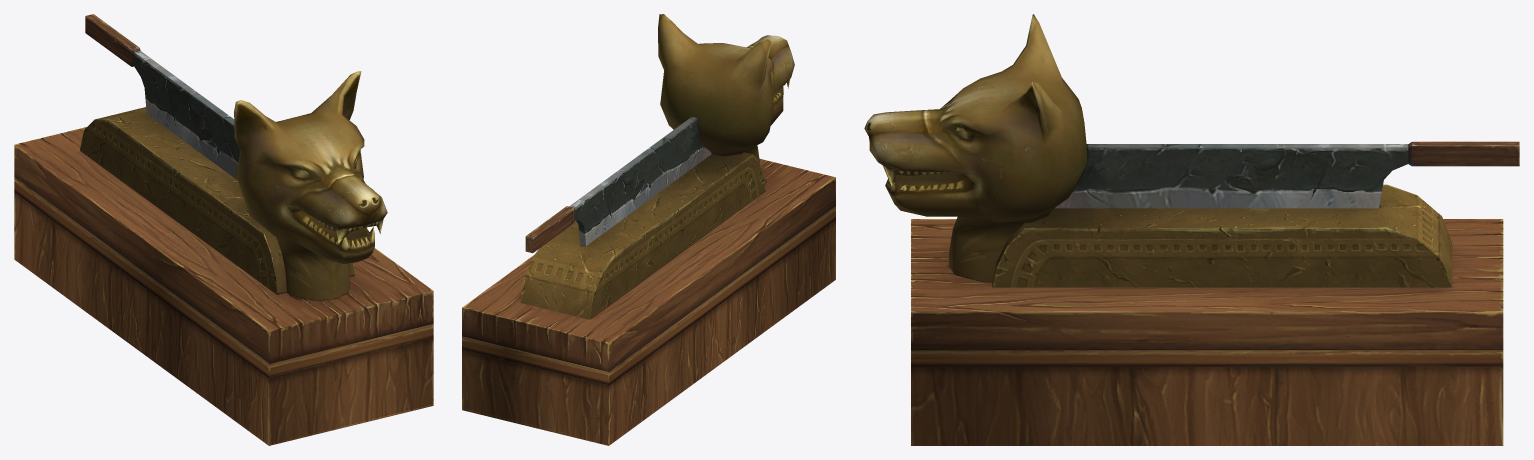
Rendered from Stage_DiXiaCheng_GouTouZa.FBX.
The picture shows the model from 3 angles, left to right: view 1: azimuth 30°, elevation 25°; view 2: azimuth 150°, elevation 25°; view 3: azimuth 270°, elevation 25°; orthographic projection. The views are drawn at different scales.
Visible parts, largest first — view 1: Stage_DiXiaCheng_GouTouZa; view 2: Stage_DiXiaCheng_GouTouZa; view 3: Stage_DiXiaCheng_GouTouZa.
Boxes of the visible parts, left/top/right/bottom form: Stage_DiXiaCheng_GouTouZa: left=14, top=14, right=433, bottom=445; Stage_DiXiaCheng_GouTouZa: left=462, top=14, right=835, bottom=445; Stage_DiXiaCheng_GouTouZa: left=864, top=14, right=1519, bottom=445.
Size of the model in its own units: 73.4 by 129 by 217.
